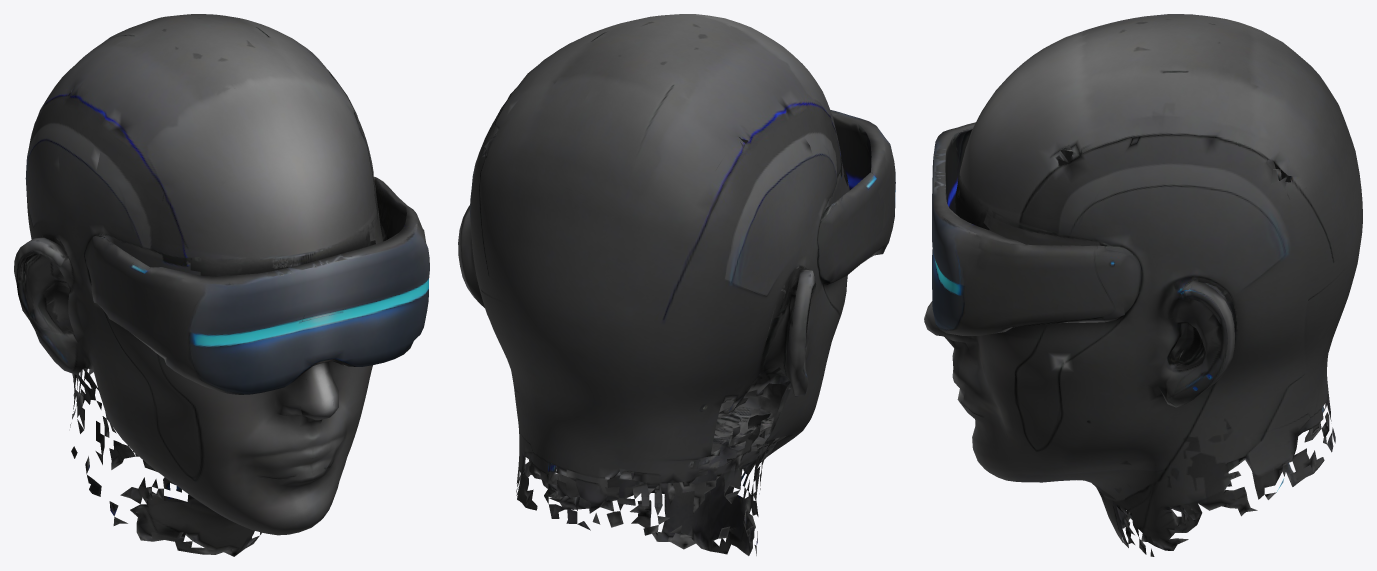
Rendered from vr head1.glb.
3 views of the same model, side by side, from view 1: azimuth 30°, elevation 25°; view 2: azimuth 150°, elevation 25°; view 3: azimuth 270°, elevation 25° (orthographic). The views are drawn at different scales.
Bounding box in the file's own units: 1.36 × 1.99 × 1.55.
1 material, 1 textured.
